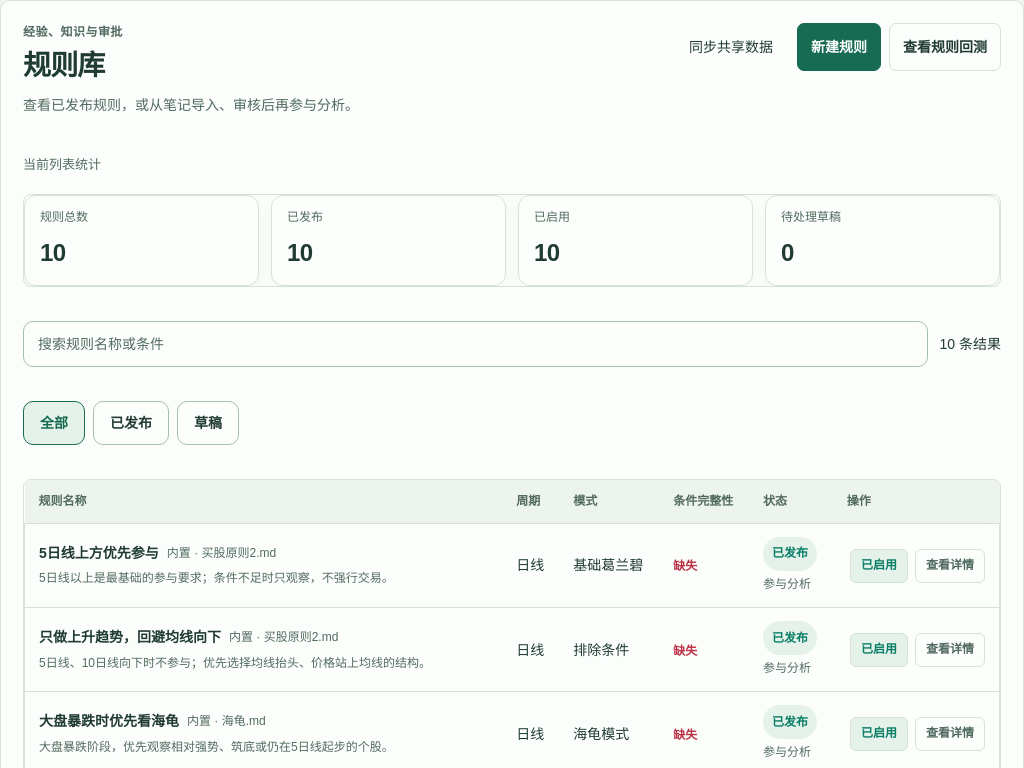
Scenario: RulesPage interactions › toggles a rule and opens its detail panel
Click the button with aria-label "停用规则 5日线上方优先参与" at (879, 566), box [850,549,908,583]
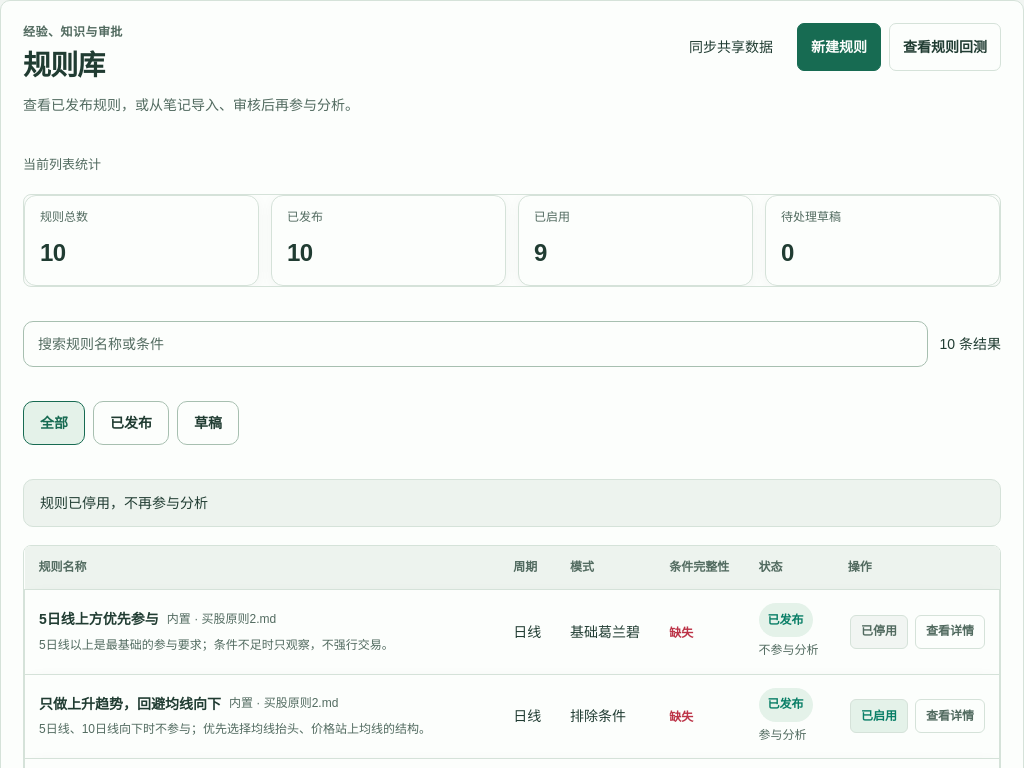
Now the button with aria-label "启用规则 5日线上方优先参与" is not pressed, box [850,615,908,649]
Click the button with aria-label "查看规则详情 5日线上方优先参与" at (950, 632), box [915,615,985,649]
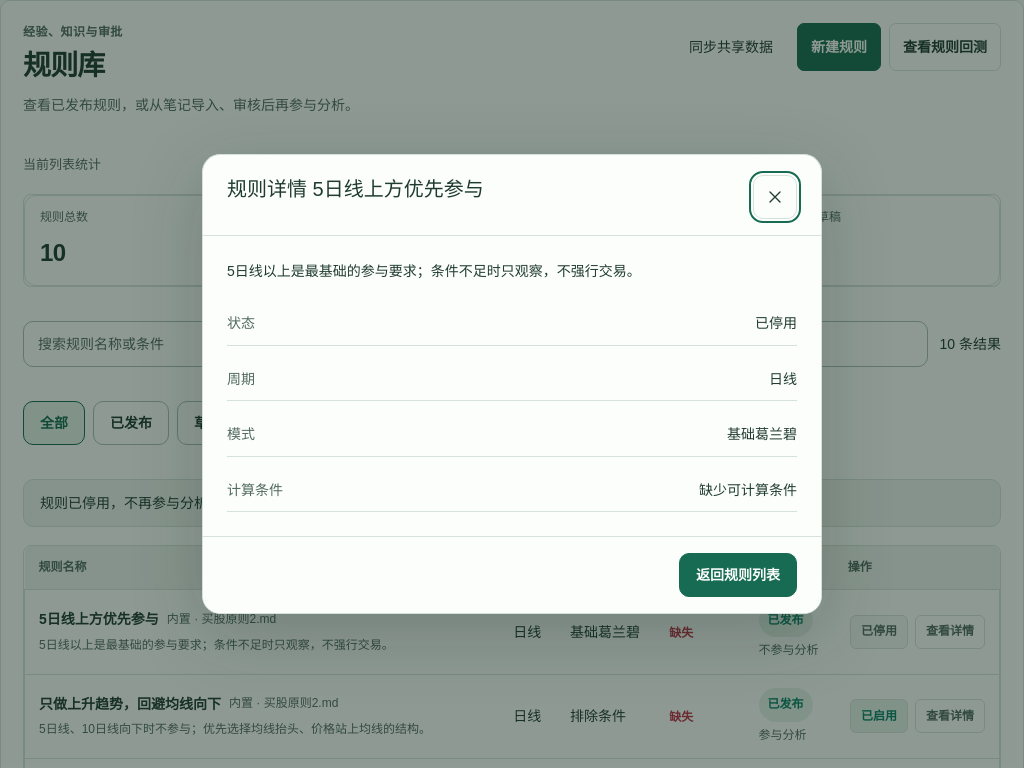
Now the dialog "规则详情 5日线上方优先参与" is shown, box [202,154,822,614]
